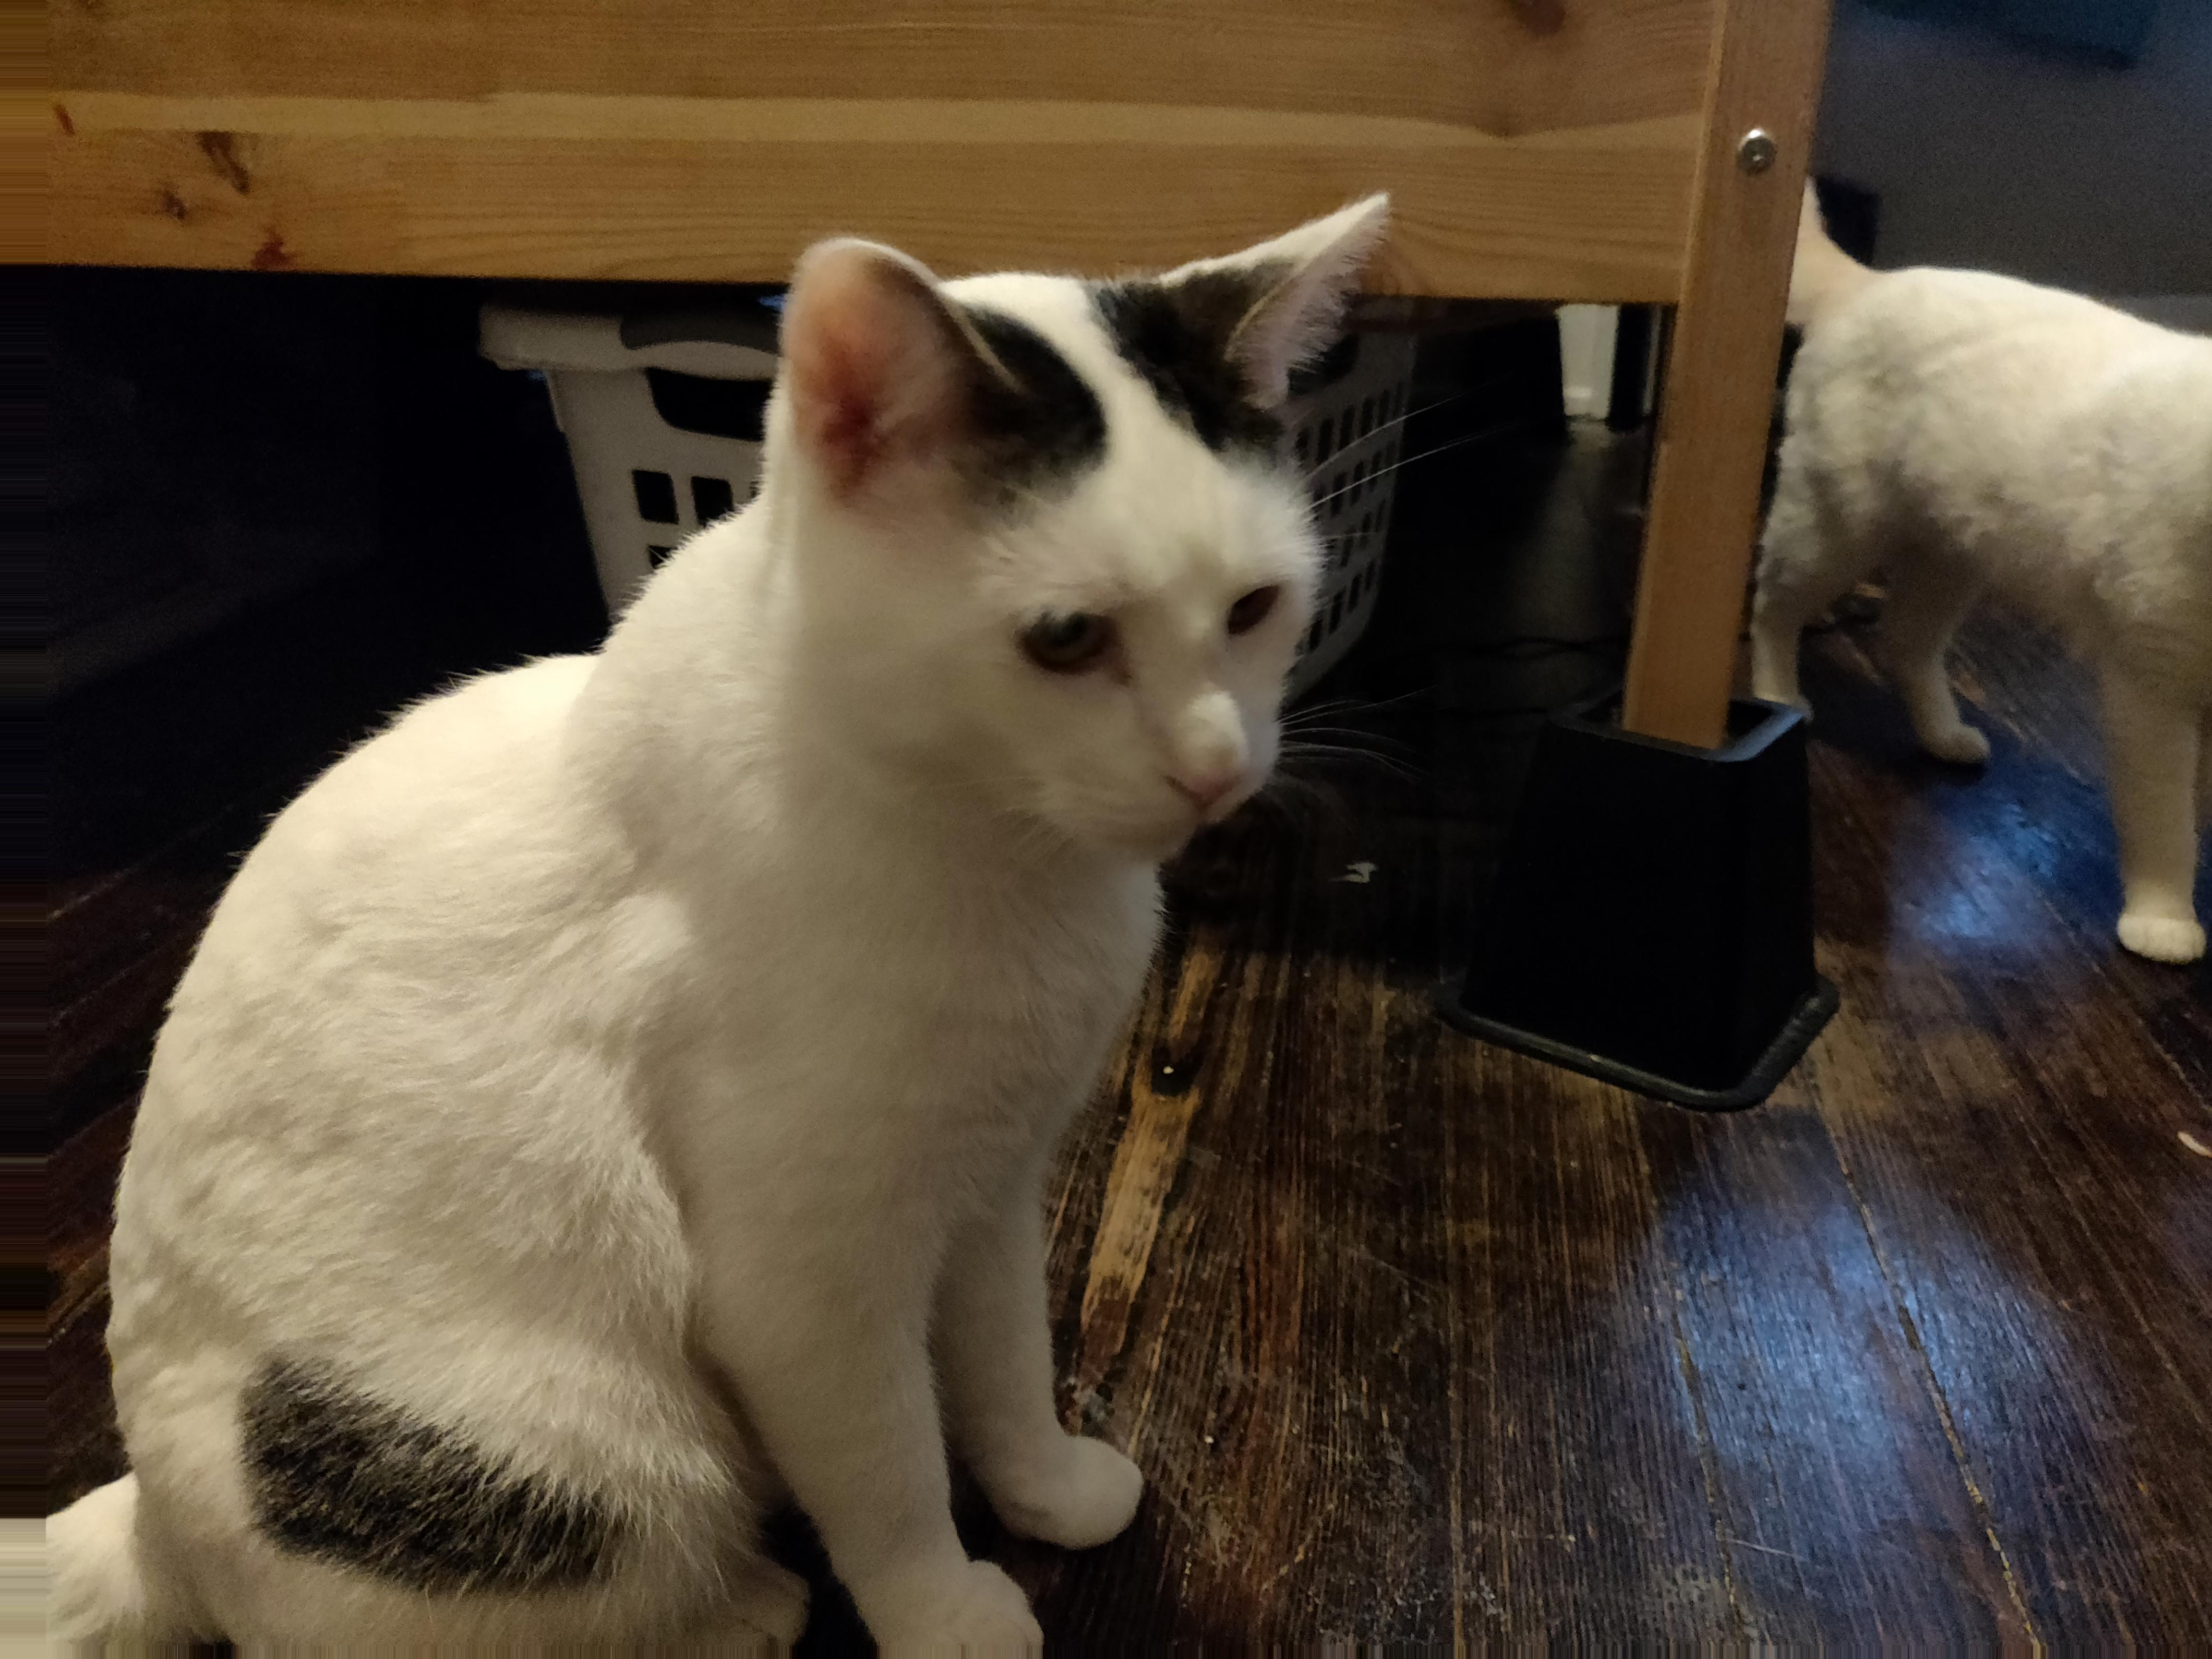cat: (0, 199, 1382, 1659), (1784, 177, 2212, 954)
